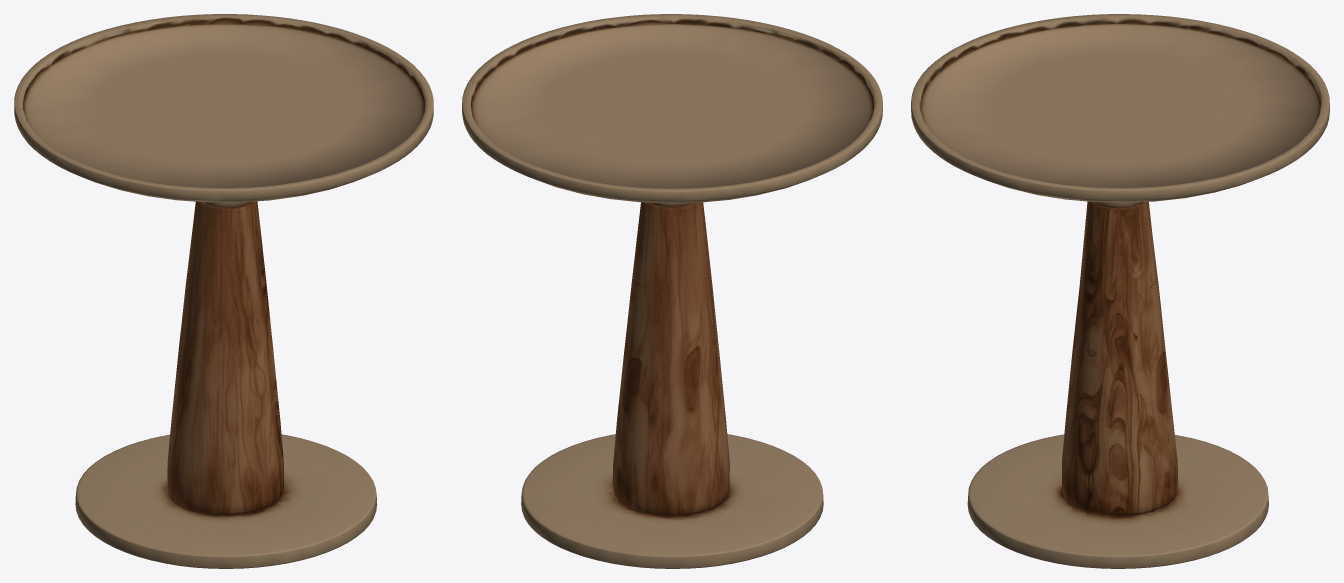
Rendered from side-table.glb.
3 renders of one model, left to right at view 1: azimuth 30°, elevation 25°; view 2: azimuth 150°, elevation 25°; view 3: azimuth 270°, elevation 25°, orthographic.
Visible parts, largest first — view 1: tripo_node_6bff741a-9ac2-4e68-af59-3873014c7153; view 2: tripo_node_6bff741a-9ac2-4e68-af59-3873014c7153; view 3: tripo_node_6bff741a-9ac2-4e68-af59-3873014c7153.
Part boxes in pixels (x1,y1,x2,y2): tripo_node_6bff741a-9ac2-4e68-af59-3873014c7153: [14, 14, 433, 568]; tripo_node_6bff741a-9ac2-4e68-af59-3873014c7153: [462, 14, 882, 568]; tripo_node_6bff741a-9ac2-4e68-af59-3873014c7153: [911, 14, 1329, 568].
Bounding box in the file's own units: 0.9419 × 0.9995 × 0.9409.
Materials: 1 (1 with a texture image).
